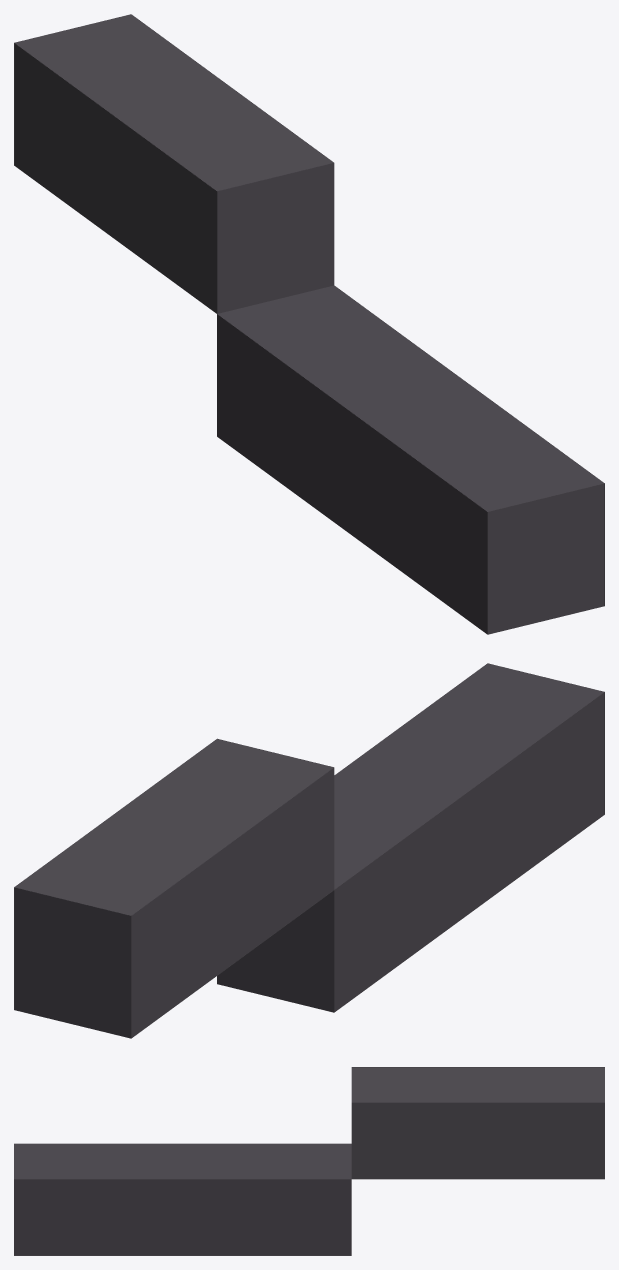
Rendered from Samurai Sheath.obj.
The picture shows the model from 3 angles, top to bottom: view 1: azimuth 30°, elevation 25°; view 2: azimuth 150°, elevation 25°; view 3: azimuth 270°, elevation 25°; orthographic projection. The views are drawn at different scales.
Visible parts, largest first — view 1: Samurai Sheath; view 2: Samurai Sheath; view 3: Samurai Sheath.
Part boxes in pixels (<box>): Samurai Sheath: <box>14,14,604,634</box>; Samurai Sheath: <box>14,663,604,1038</box>; Samurai Sheath: <box>14,1067,604,1255</box>.
Bounding box in the file's own units: 1 × 2 × 7.
Materials: 1 (1 with a texture image).
